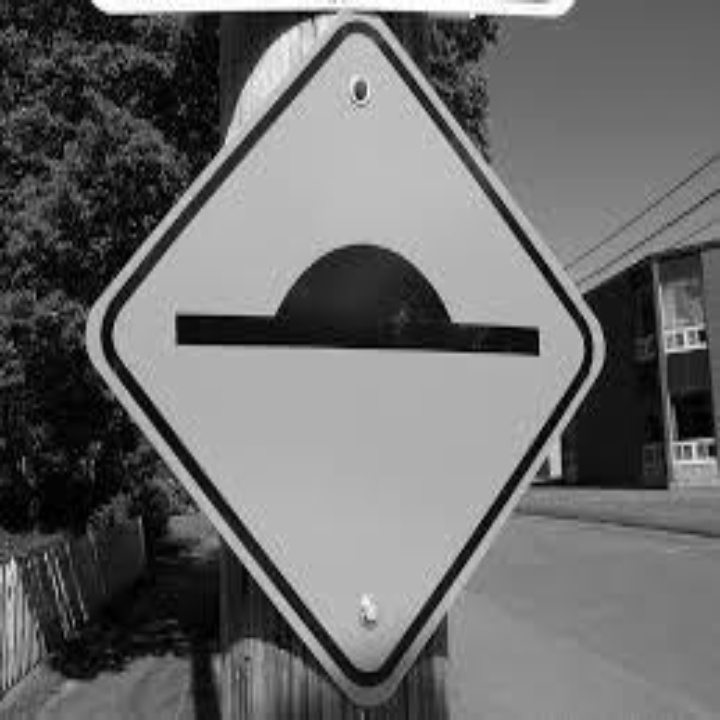bump: (130, 242, 558, 392)
